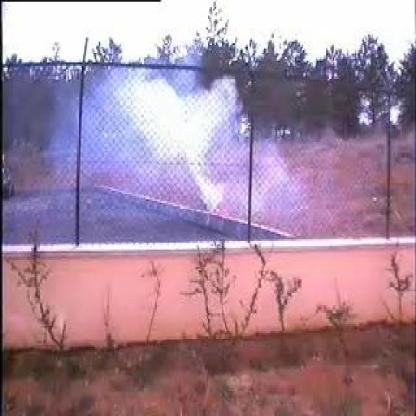-: (78, 63, 291, 216)
